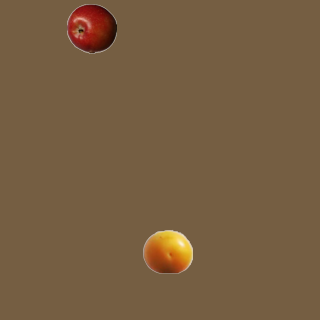Apple Braeburn: (66, 3, 116, 53)
Cherry Wax Yellow: (142, 226, 192, 276)
